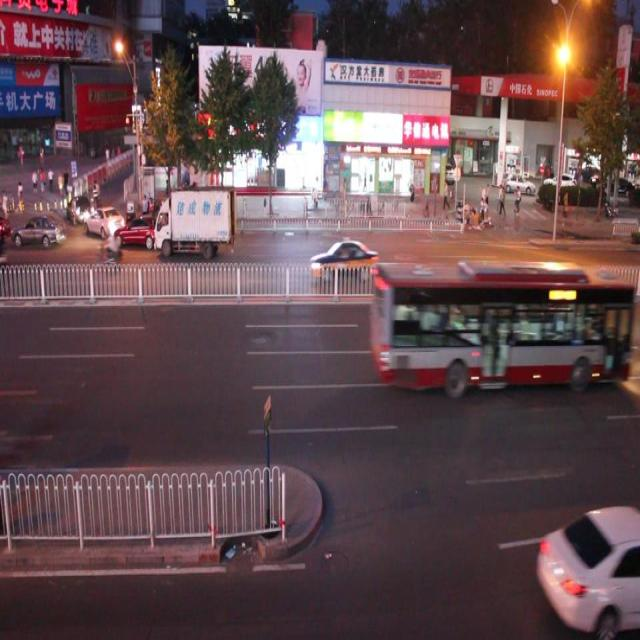bus: (154, 188, 235, 256)
car: (534, 505, 640, 640), (308, 238, 377, 286), (166, 185, 223, 232), (11, 214, 65, 254), (112, 212, 167, 249), (86, 204, 125, 238), (68, 192, 93, 228)
van: (369, 261, 626, 386)
